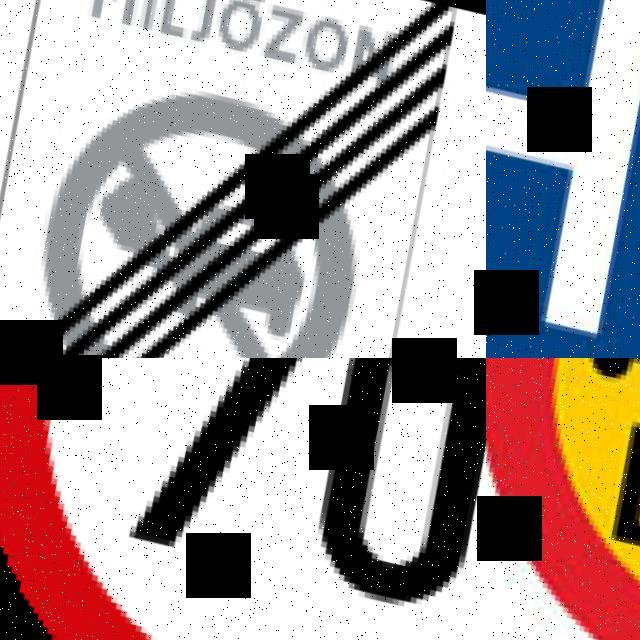110: (0, 0, 474, 358)
15: (486, 358, 640, 640)
178: (486, 0, 640, 358)
speed limit-70: (0, 358, 486, 640)
